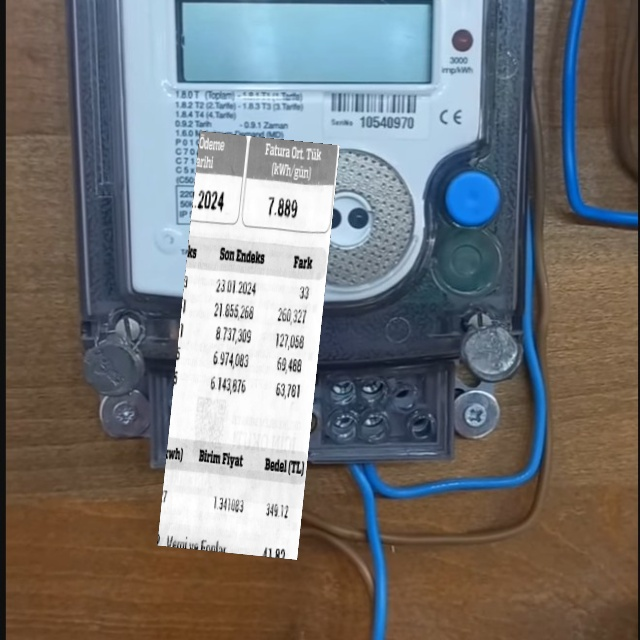electricity-bill: (156, 130, 340, 559)
